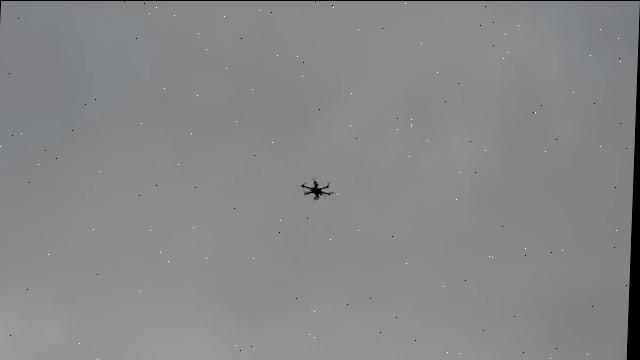drone: (0, 294, 631, 360)
